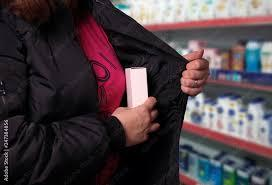shoplifting: (31, 27, 248, 161)
